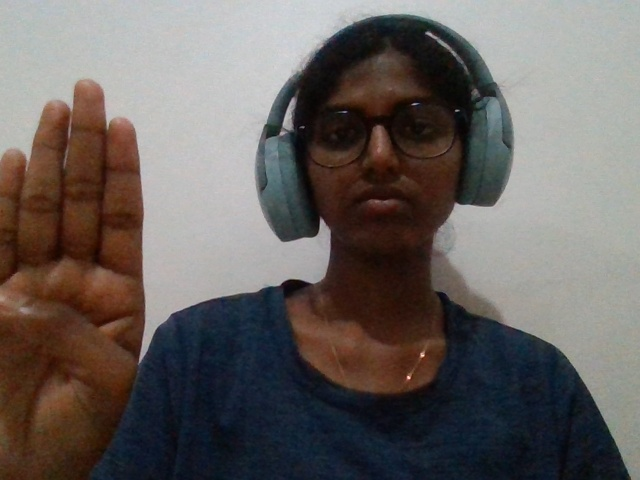B: (1, 65, 151, 480)
